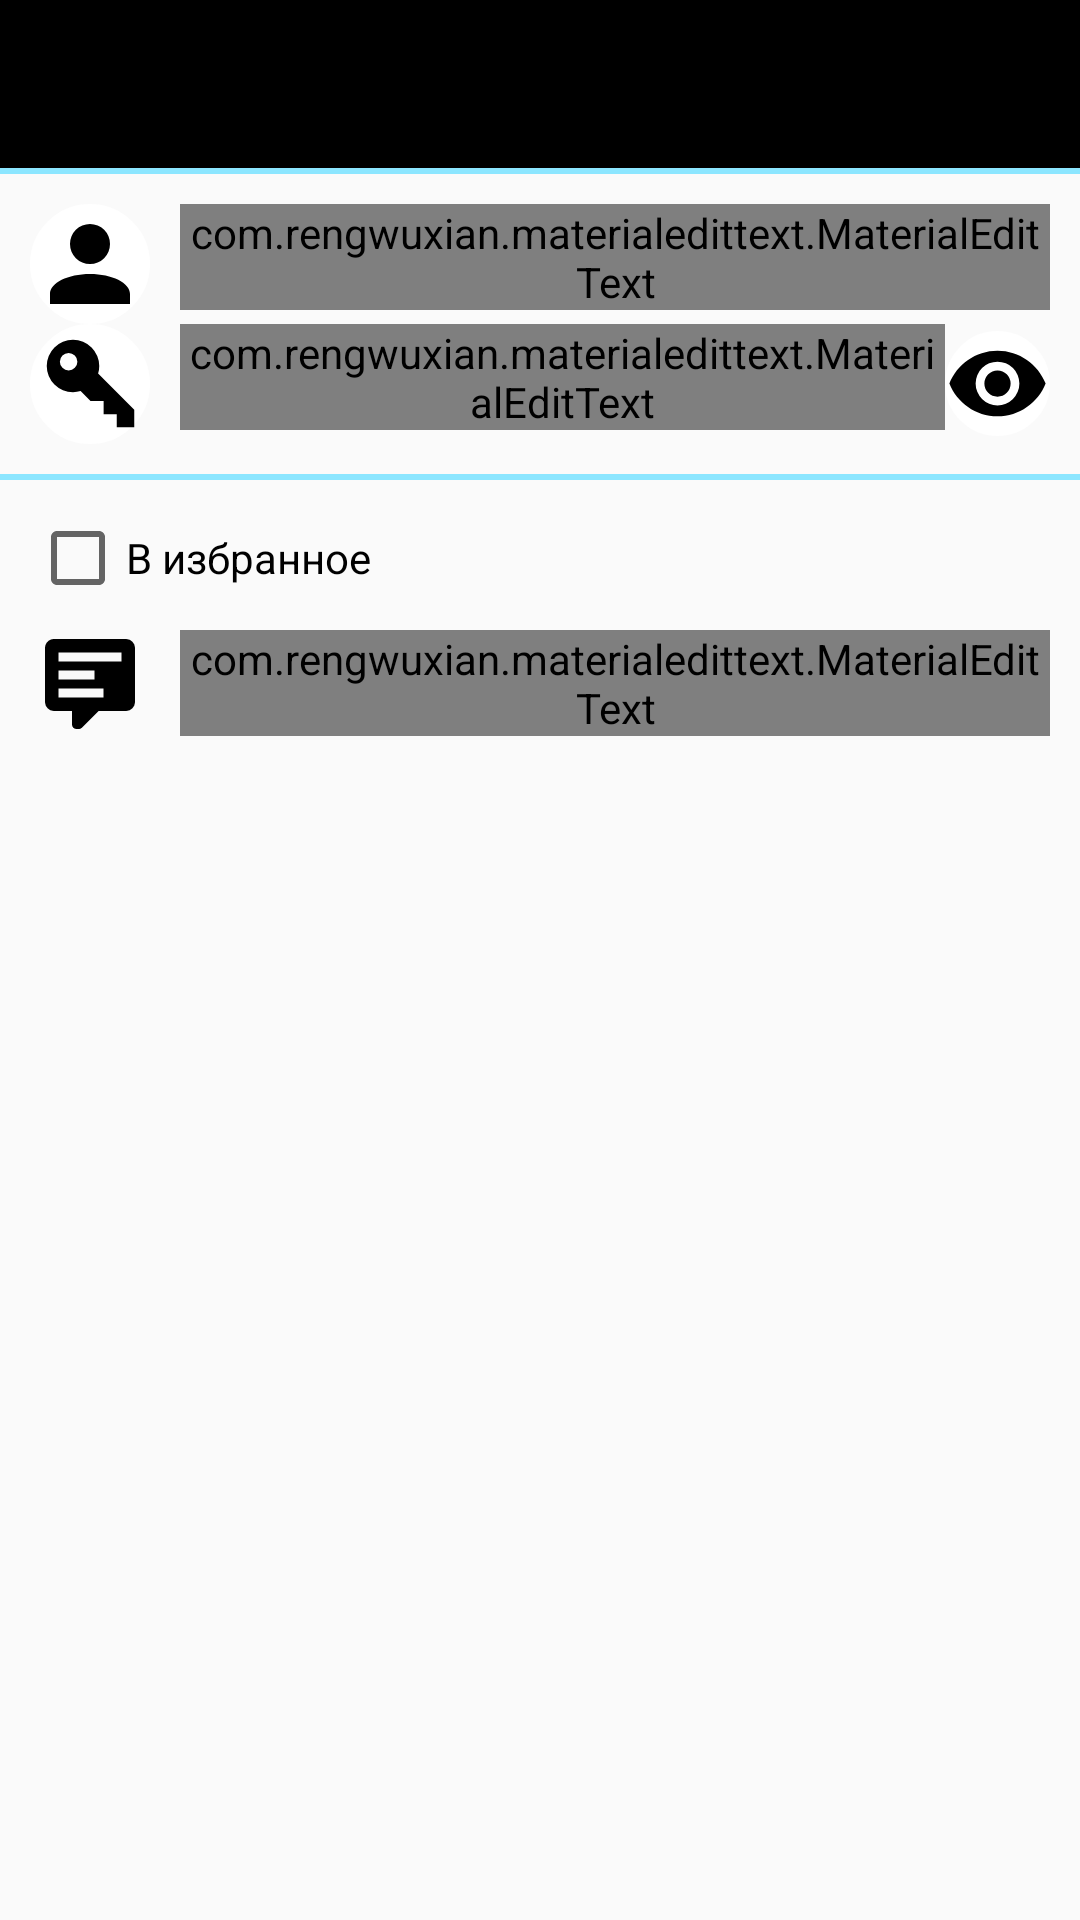

Screen size 1080 x 1920. Icon name, then its center in pixels as (x=x, y=y):
eye: (x=997, y=383)
key: (x=90, y=383)
login: (x=90, y=264)
